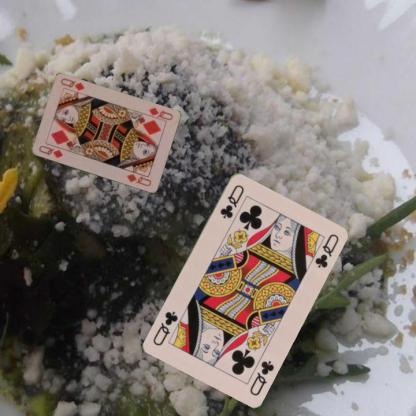Qc: (246, 357, 276, 397), (217, 182, 246, 219)
Qd: (143, 105, 174, 123), (36, 142, 64, 160)
